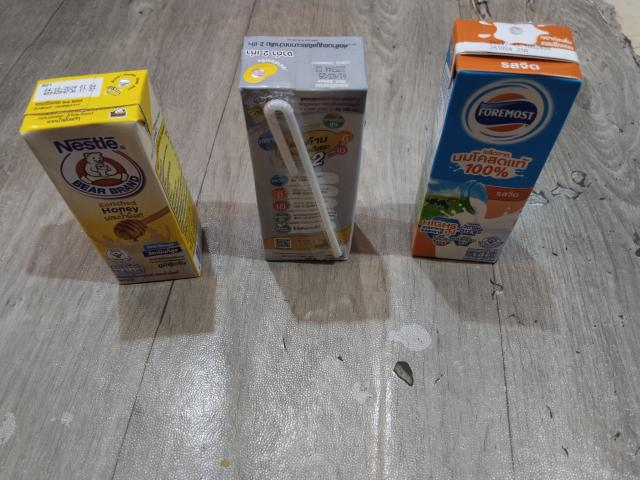drink_box: (27, 76, 207, 282), (233, 28, 367, 281), (438, 16, 571, 264)
